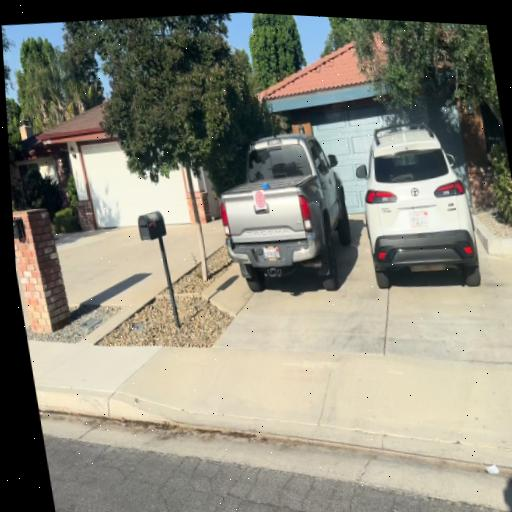bullseye: (253, 190, 267, 210)
